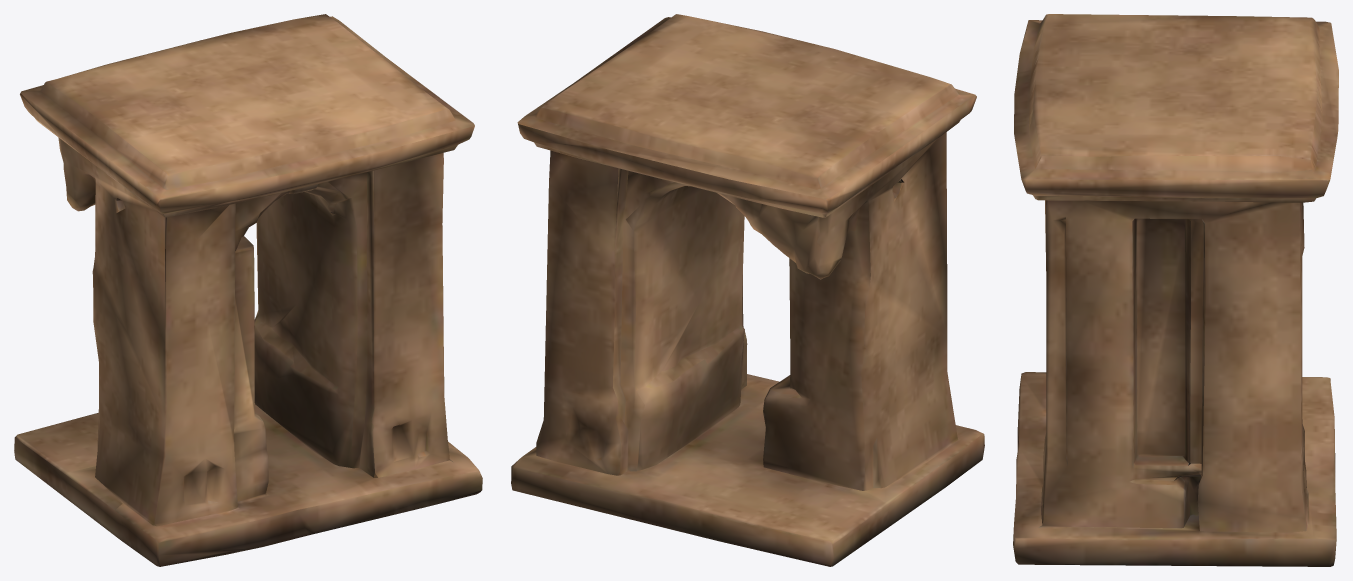
File: sturdy-sandstone-gate-pillar-v001.glb
The picture shows the model from 3 angles, left to right: view 1: azimuth 30°, elevation 25°; view 2: azimuth 150°, elevation 25°; view 3: azimuth 270°, elevation 25°; orthographic projection. The views are drawn at different scales.
Parts seen in each view (by area): view 1: sturdy-sandstone-gate-pillar; view 2: sturdy-sandstone-gate-pillar; view 3: sturdy-sandstone-gate-pillar.
Boxes of the visible parts, x1,y1,x2,y2 form: sturdy-sandstone-gate-pillar: (14,14,482,566); sturdy-sandstone-gate-pillar: (511,14,984,566); sturdy-sandstone-gate-pillar: (1013,14,1338,566).
Size of the model in its own units: 1.92 by 2.18 by 1.59.
Materials: 1 (1 with a texture image).
